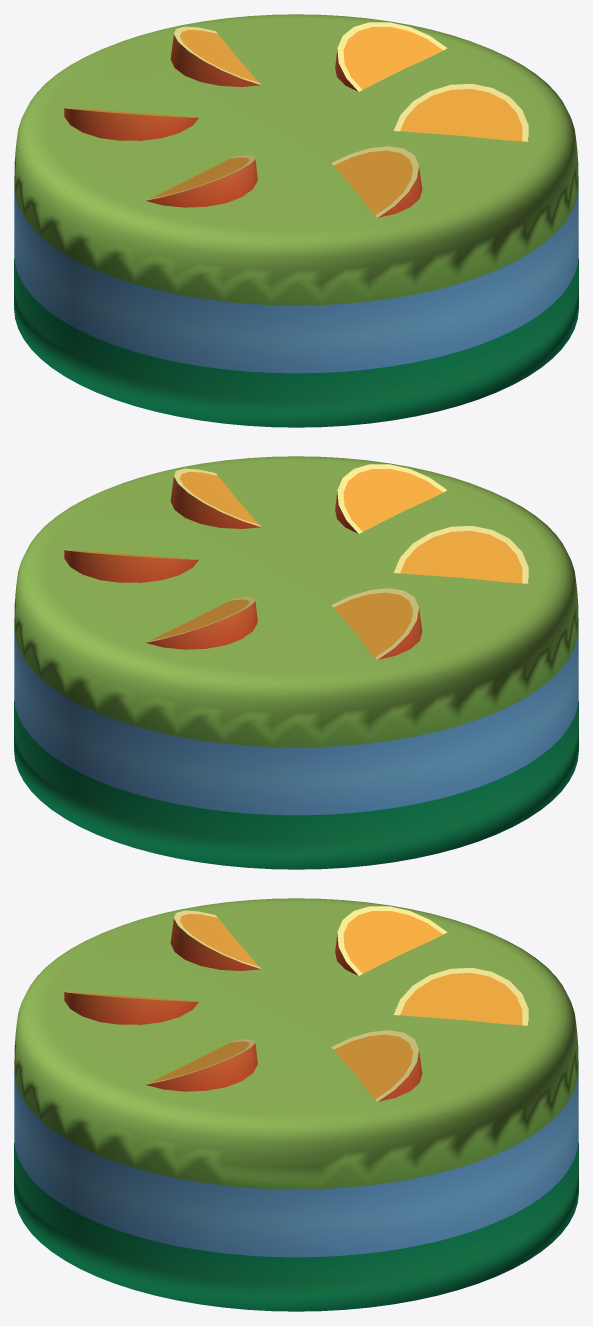
Rendered from cake08.FBX.
3 views of the same model, one above another, from view 1: azimuth 30°, elevation 25°; view 2: azimuth 150°, elevation 25°; view 3: azimuth 270°, elevation 25° (orthographic).
Parts seen in each view (by area): view 1: cake08; view 2: cake08; view 3: cake08.
Part boxes in pixels (x1,y1,x2,y2): cake08: (14,14,578,427); cake08: (14,456,578,869); cake08: (14,898,578,1311).
Size of the model in its own units: 0.0193 by 0.0079 by 0.0193.
